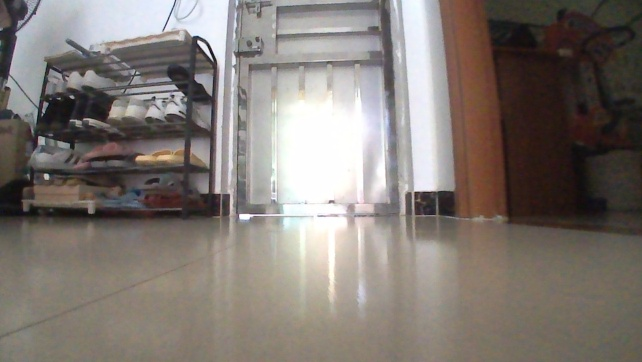door_anno: (230, 0, 408, 220)
shoe: (164, 96, 212, 132), (77, 69, 122, 97), (33, 147, 87, 166)
slipper: (156, 149, 208, 169)
wire: (5, 70, 45, 115), (172, 0, 200, 21), (159, 0, 176, 32), (121, 68, 139, 94)
